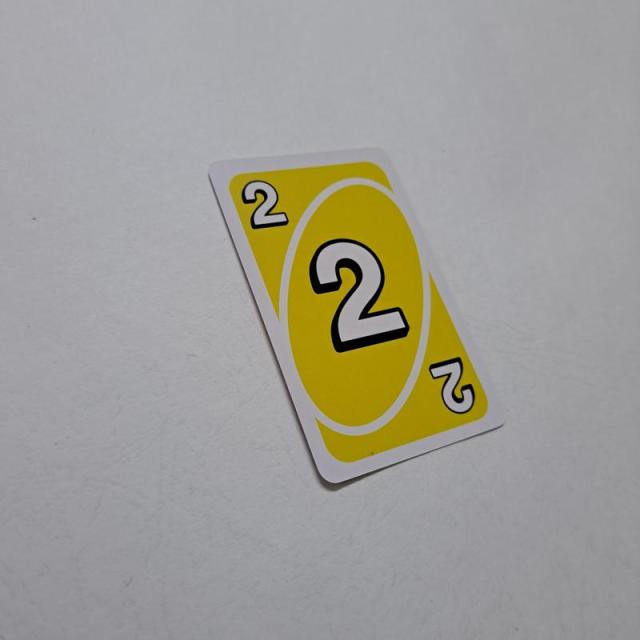Number_2: (239, 171, 294, 234)
Yellow_Card: (228, 156, 494, 466)
